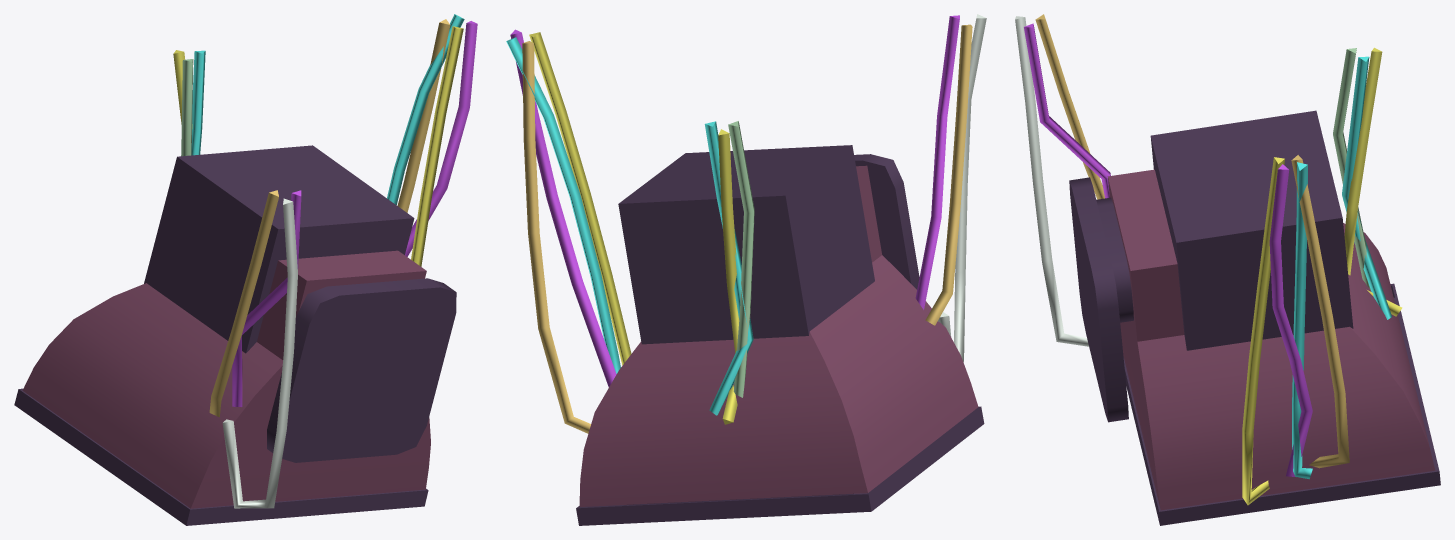
Rendered from Light2.fbx.
3 views of the same model, side by side, from view 1: azimuth 30°, elevation 25°; view 2: azimuth 150°, elevation 25°; view 3: azimuth 270°, elevation 25° (orthographic). The views are drawn at different scales.
Visible parts, largest first — view 1: Compucter 2.001; view 2: Compucter 2.001; view 3: Compucter 2.001.
Part boxes in pixels (box(x1,y1,x2,y2)): Compucter 2.001: box(14, 14, 477, 525); Compucter 2.001: box(506, 14, 986, 525); Compucter 2.001: box(1015, 14, 1440, 525).
Size of the model in its own units: 70.58 by 69.1 by 64.51.
